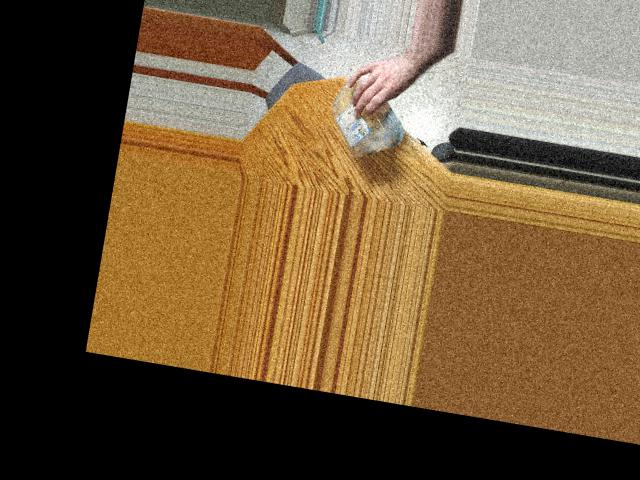cheese: (321, 59, 411, 165)
